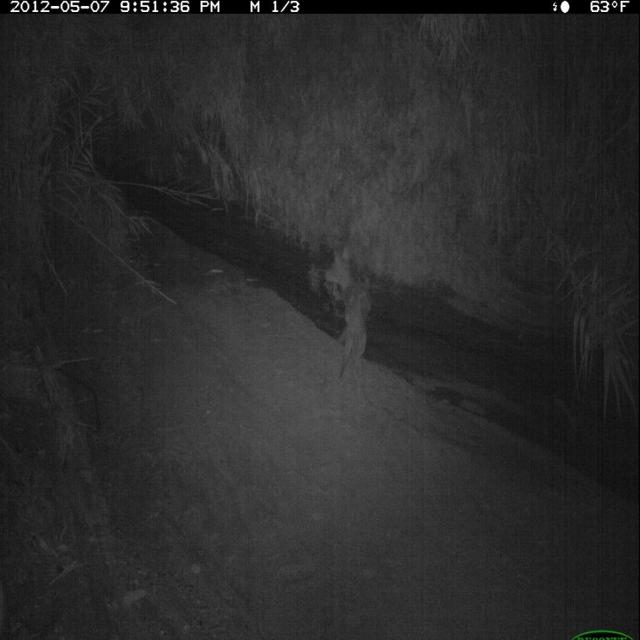coyote: (322, 242, 375, 395)
